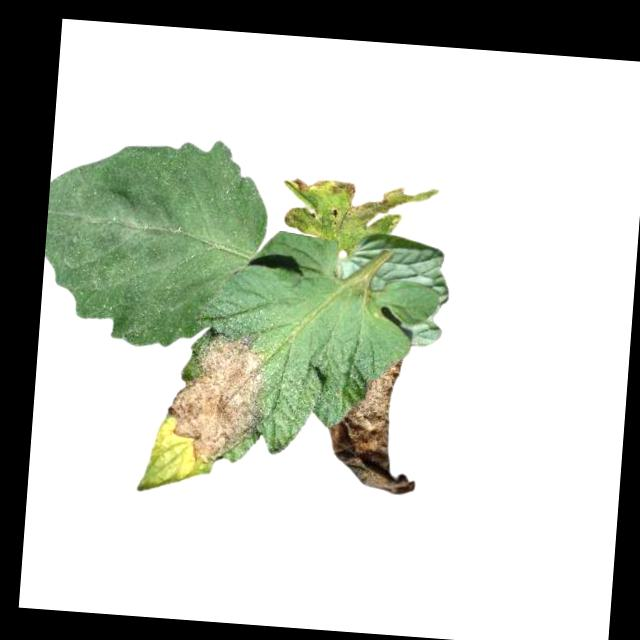Late_blight: (162, 326, 271, 470), (323, 353, 426, 498), (278, 173, 440, 255)
healthy: (38, 126, 274, 356)
